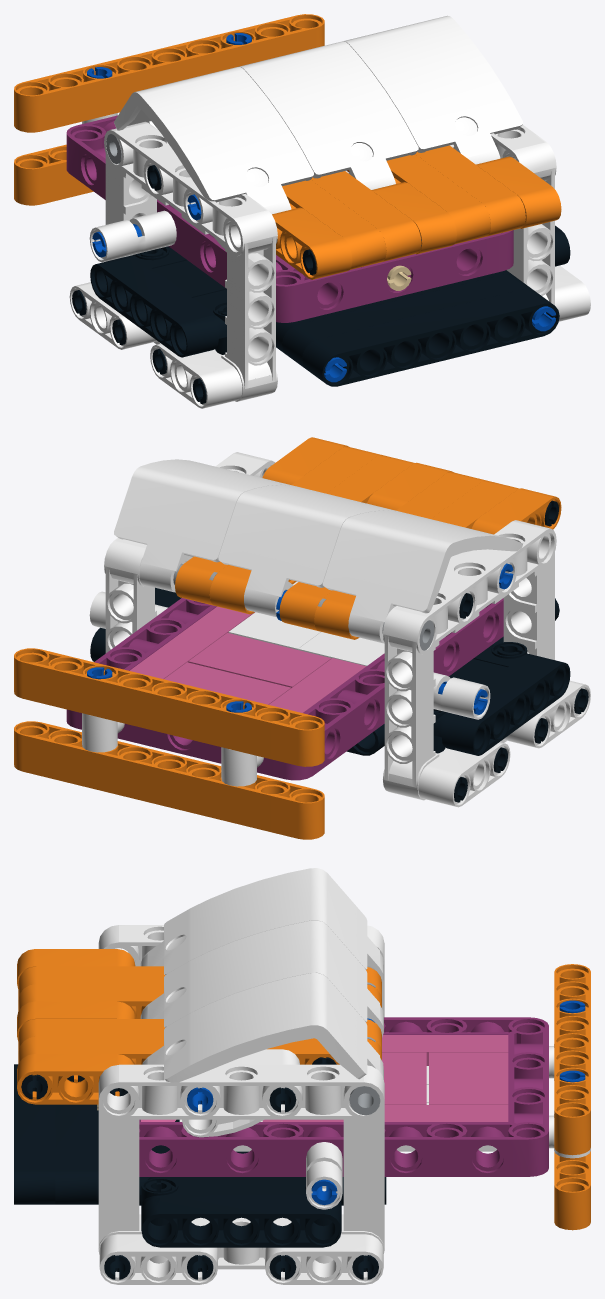
3 renders of one model, top to bottom at view 1: azimuth 30°, elevation 25°; view 2: azimuth 150°, elevation 25°; view 3: azimuth 270°, elevation 25°, orthographic. The views are drawn at different scales.
Parts seen in each view (by area): view 1: Inner-Node-stampa_dot_io-11.001, Inner-Node-stampa_dot_io-58.001, Inner-Node-stampa_dot_io-41.001, Inner-Node-stampa_dot_io-57.001, Inner-Node-stampa_dot_io-61.001, Inner-Node-stampa_dot_io-66.001, Inner-Node-stampa_dot_io-10.001, Inner-Node-stampa_dot_io-0.001, Inner-Node-stampa_dot_io-9.001, Inner-Node-stampa_dot_io-14.001, Inner-Node-stampa_dot_io-56.001, Inner-Node-stampa_dot_io-42.001 (+11 smaller); view 2: Inner-Node-stampa_dot_io-11.001, Inner-Node-stampa_dot_io-66.001, Inner-Node-stampa_dot_io-67.001, Inner-Node-stampa_dot_io-61.001, Inner-Node-stampa_dot_io-58.001, Inner-Node-stampa_dot_io-57.001, Inner-Node-stampa_dot_io-41.001, Inner-Node-stampa_dot_io-0.001, Inner-Node-stampa_dot_io-14.001, Inner-Node-stampa_dot_io-78.001, Inner-Node-stampa_dot_io-35.001, Inner-Node-stampa_dot_io-47.001 (+17 smaller); view 3: Inner-Node-stampa_dot_io-14.001, Inner-Node-stampa_dot_io-61.001, Inner-Node-stampa_dot_io-57.001, Inner-Node-stampa_dot_io-0.001, Inner-Node-stampa_dot_io-58.001, Inner-Node-stampa_dot_io-41.001, Inner-Node-stampa_dot_io-66.001, Inner-Node-stampa_dot_io-10.001, Inner-Node-stampa_dot_io-9.001, Inner-Node-stampa_dot_io-77.001, Inner-Node-stampa_dot_io-55.001, Inner-Node-stampa_dot_io-26.001 (+15 smaller).
Boxes of the visible parts, left/top/right/bottom form: Inner-Node-stampa_dot_io-11.001: left=104, top=121, right=277, bottom=401; Inner-Node-stampa_dot_io-58.001: left=114, top=67, right=313, bottom=214; Inner-Node-stampa_dot_io-41.001: left=238, top=41, right=418, bottom=189; Inner-Node-stampa_dot_io-57.001: left=343, top=15, right=523, bottom=164; Inner-Node-stampa_dot_io-61.001: left=66, top=115, right=513, bottom=322; Inner-Node-stampa_dot_io-66.001: left=14, top=14, right=324, bottom=132; Inner-Node-stampa_dot_io-10.001: left=302, top=289, right=559, bottom=386; Inner-Node-stampa_dot_io-0.001: left=90, top=225, right=570, bottom=357; Inner-Node-stampa_dot_io-9.001: left=282, top=274, right=534, bottom=368; Inner-Node-stampa_dot_io-14.001: left=490, top=125, right=556, bottom=306; Inner-Node-stampa_dot_io-56.001: left=272, top=207, right=352, bottom=279; Inner-Node-stampa_dot_io-42.001: left=347, top=154, right=490, bottom=244; Inner-Node-stampa_dot_io-11.001: left=383, top=520, right=556, bottom=800; Inner-Node-stampa_dot_io-66.001: left=14, top=648, right=324, bottom=766; Inner-Node-stampa_dot_io-67.001: left=14, top=721, right=324, bottom=839; Inner-Node-stampa_dot_io-61.001: left=66, top=598, right=503, bottom=780; Inner-Node-stampa_dot_io-58.001: left=323, top=510, right=522, bottom=643; Inner-Node-stampa_dot_io-57.001: left=114, top=459, right=296, bottom=592; Inner-Node-stampa_dot_io-41.001: left=218, top=485, right=400, bottom=617; Inner-Node-stampa_dot_io-0.001: left=90, top=587, right=570, bottom=755; Inner-Node-stampa_dot_io-14.001: left=104, top=452, right=275, bottom=653; Inner-Node-stampa_dot_io-78.001: left=188, top=633, right=331, bottom=687; Inner-Node-stampa_dot_io-35.001: left=279, top=472, right=484, bottom=631; Inner-Node-stampa_dot_io-47.001: left=175, top=446, right=380, bottom=605; Inner-Node-stampa_dot_io-14.001: left=98, top=1064, right=384, bottom=1269; Inner-Node-stampa_dot_io-61.001: left=139, top=1017, right=548, bottom=1176; Inner-Node-stampa_dot_io-57.001: left=142, top=973, right=383, bottom=1082; Inner-Node-stampa_dot_io-0.001: left=139, top=1119, right=343, bottom=1247; Inner-Node-stampa_dot_io-58.001: left=140, top=868, right=383, bottom=984; Inner-Node-stampa_dot_io-41.001: left=140, top=920, right=383, bottom=1037; Inner-Node-stampa_dot_io-66.001: left=554, top=964, right=590, bottom=1155; Inner-Node-stampa_dot_io-10.001: left=14, top=1064, right=55, bottom=1204; Inner-Node-stampa_dot_io-9.001: left=55, top=1104, right=96, bottom=1204; Inner-Node-stampa_dot_io-77.001: left=429, top=1052, right=508, bottom=1104; Inner-Node-stampa_dot_io-55.001: left=17, top=1054, right=133, bottom=1104; Inner-Node-stampa_dot_io-26.001: left=99, top=1234, right=217, bottom=1284.
Size of the model in its own units: 8.8 by 5.2 by 11.15.
